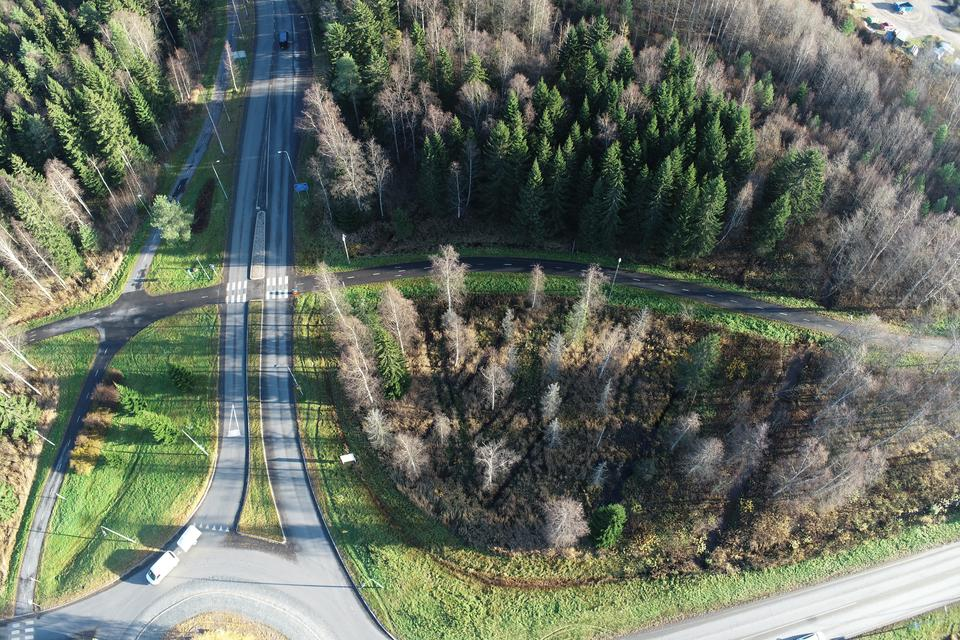intersection: (204, 258, 321, 320), (0, 586, 58, 640)
roundabout: (74, 460, 422, 638)
